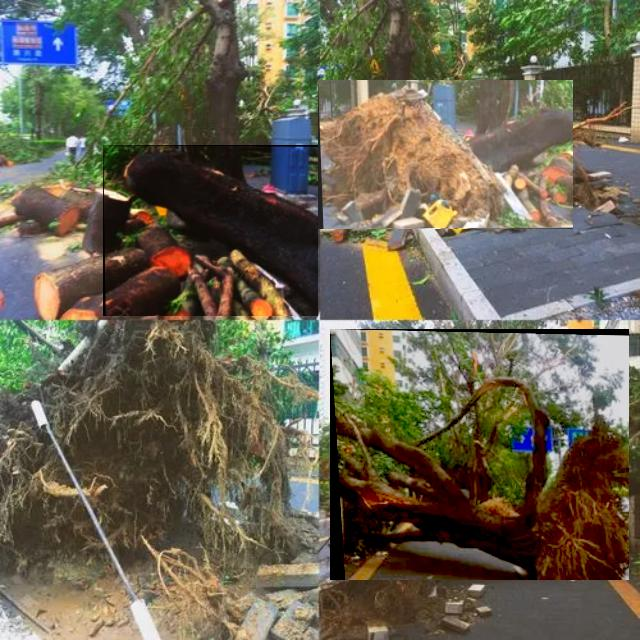Fallen Tree: (330, 329, 630, 581), (318, 80, 574, 230), (103, 145, 319, 317)
